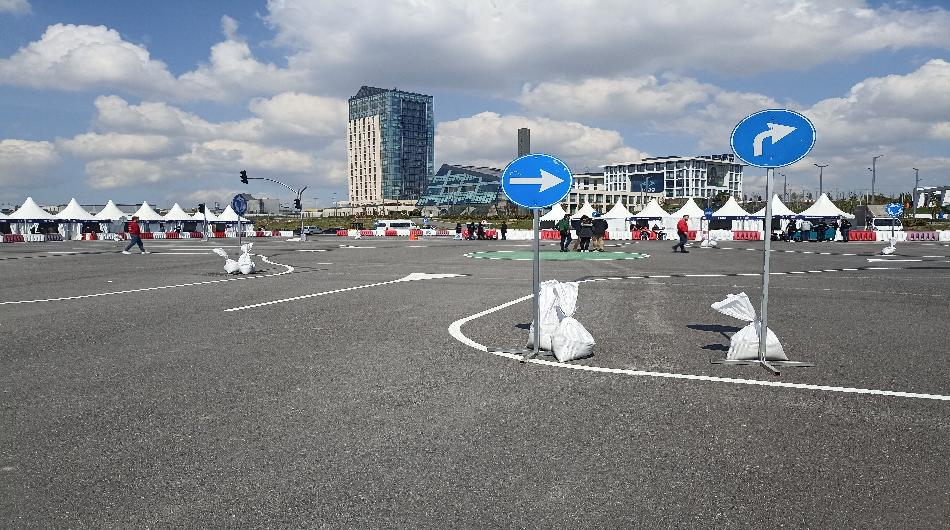saga_mecburi_1: (501, 154, 571, 206)
saga_mecburi_2: (733, 107, 818, 167)
